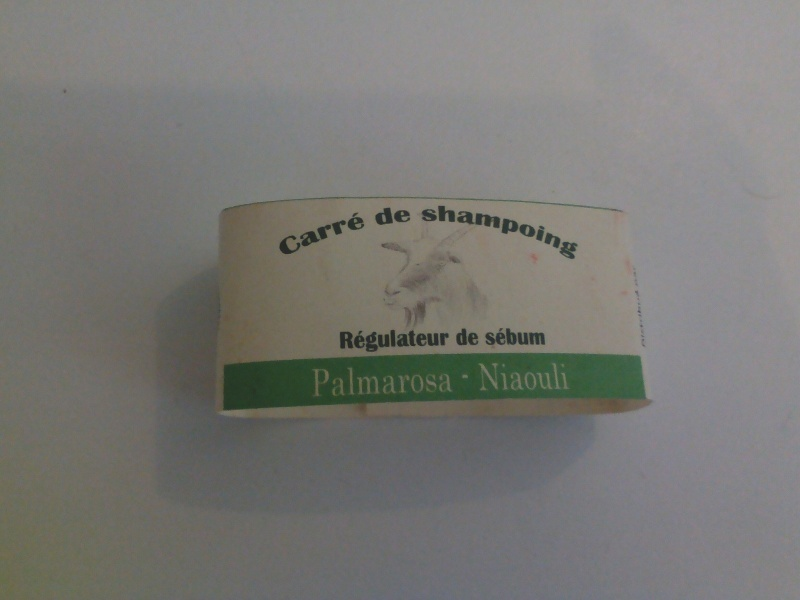text: (433, 197, 448, 261), (449, 197, 464, 261), (465, 197, 480, 261), (481, 197, 496, 261), (497, 197, 512, 261), (513, 197, 528, 261), (529, 197, 544, 261), (545, 197, 560, 261), (561, 197, 576, 261), (289, 210, 304, 258), (305, 210, 320, 258), (321, 210, 336, 258), (337, 210, 352, 258), (275, 210, 288, 258), (353, 210, 366, 258), (321, 367, 336, 397), (337, 367, 352, 397), (353, 367, 368, 397), (369, 367, 384, 397), (385, 367, 400, 397), (401, 367, 416, 397), (417, 367, 432, 397), (433, 367, 448, 397), (425, 197, 432, 261), (433, 327, 449, 354), (481, 363, 496, 391), (497, 363, 512, 391), (513, 363, 528, 391), (529, 363, 544, 391), (545, 363, 560, 391), (353, 327, 368, 354), (369, 327, 384, 354), (385, 327, 400, 354), (401, 327, 416, 354), (417, 327, 432, 354), (577, 197, 583, 261), (339, 327, 352, 354), (385, 205, 400, 226), (497, 327, 512, 346), (513, 327, 528, 346), (529, 327, 544, 346), (635, 290, 640, 347), (641, 290, 646, 347), (311, 367, 320, 397), (372, 205, 384, 226), (465, 328, 479, 346), (561, 363, 570, 391), (401, 205, 412, 226), (485, 327, 496, 346), (449, 367, 454, 397), (456, 328, 464, 346), (478, 363, 480, 391), (545, 327, 546, 346), (465, 374, 468, 378), (462, 374, 464, 378)
